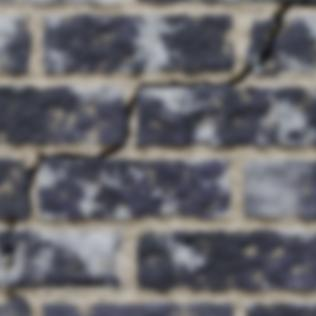brick: (37, 158, 230, 219), (41, 14, 234, 73), (137, 229, 315, 291), (136, 86, 315, 146), (0, 85, 125, 144), (243, 159, 315, 218), (42, 302, 233, 315), (0, 16, 31, 74), (0, 158, 27, 219), (246, 302, 315, 315), (0, 0, 119, 4), (6, 303, 28, 315), (150, 0, 248, 1), (0, 305, 6, 315), (269, 0, 283, 1), (287, 0, 300, 1)
broken_brick: (9, 228, 122, 289), (251, 16, 315, 75), (244, 17, 273, 65), (0, 229, 5, 265), (0, 274, 3, 286)
crack: (0, 0, 315, 315), (171, 93, 206, 146), (170, 280, 214, 291), (64, 49, 83, 73), (42, 284, 111, 286)
